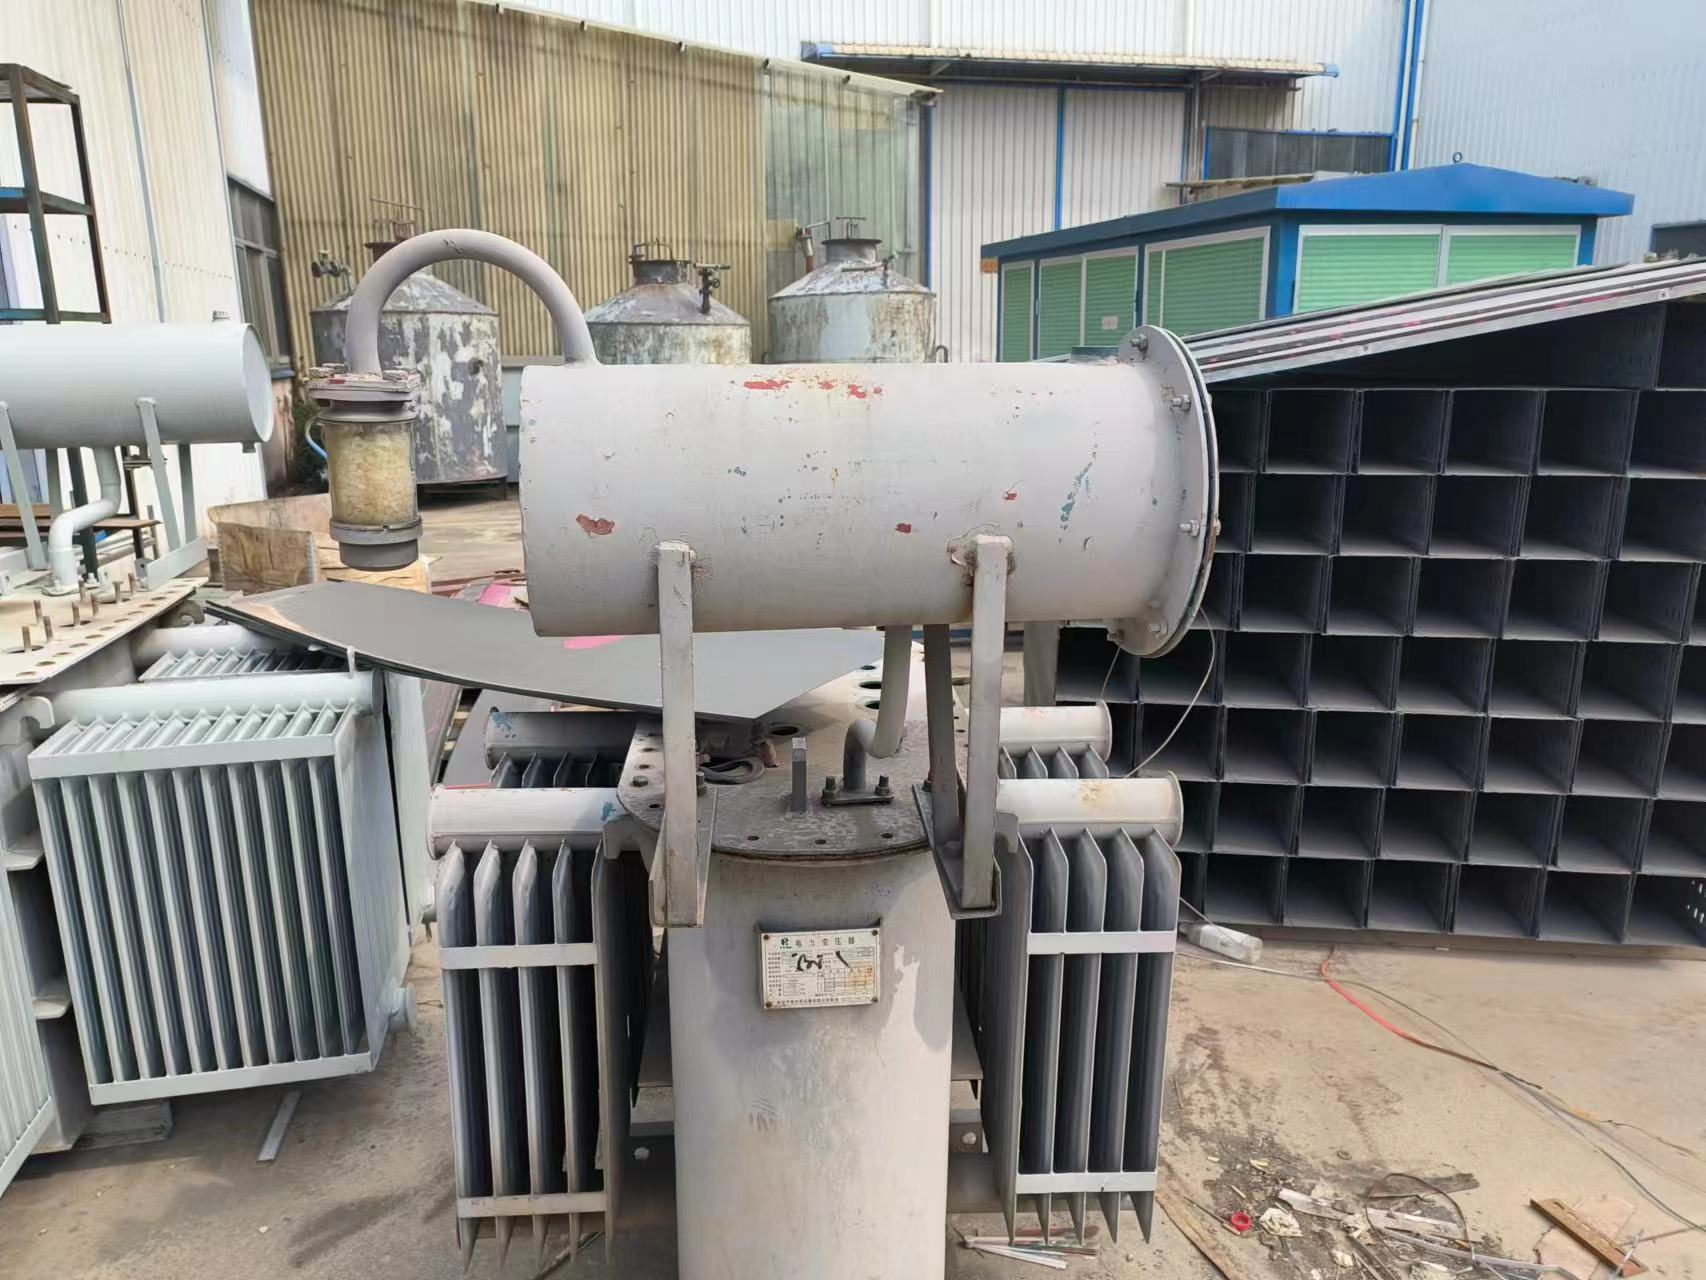Conservator: (508, 323, 1235, 925)
